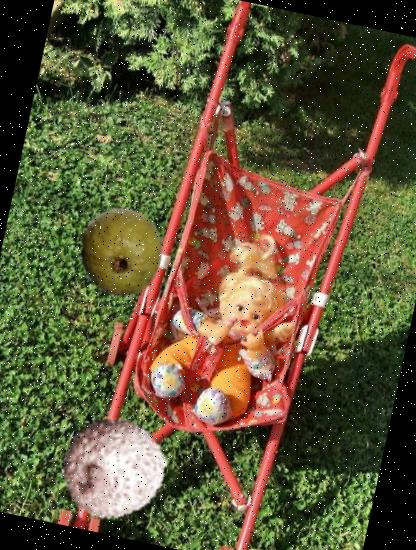Guava: (66, 198, 174, 306)
Lychee: (52, 406, 176, 532)
